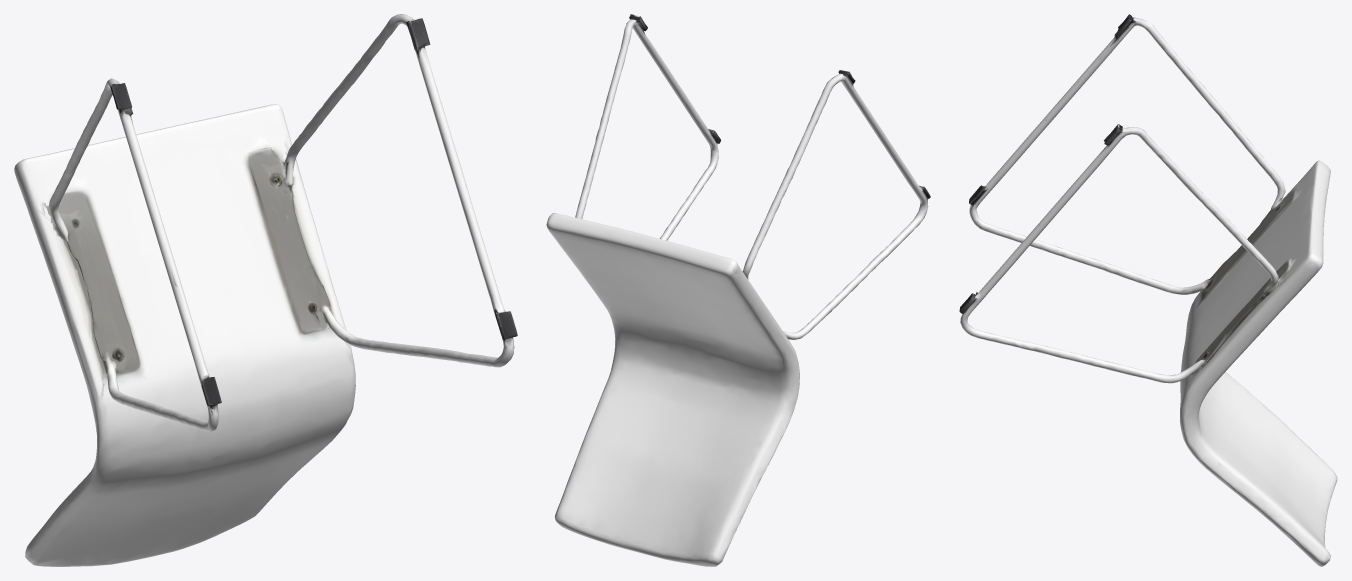
3 views of the same model, side by side, from view 1: azimuth 30°, elevation 25°; view 2: azimuth 150°, elevation 25°; view 3: azimuth 270°, elevation 25° (orthographic). The views are drawn at different scales.
Visible parts, largest first — view 1: node_id5; view 2: node_id5; view 3: node_id5.
Boxes of the visible parts, left/top/right/bottom form: node_id5: left=14, top=14, right=517, bottom=566; node_id5: left=546, top=14, right=930, bottom=566; node_id5: left=959, top=14, right=1337, bottom=566.
Size of the model in its own units: 0.2902 by 0.5364 by 0.397.
Materials: 1 (1 with a texture image).
